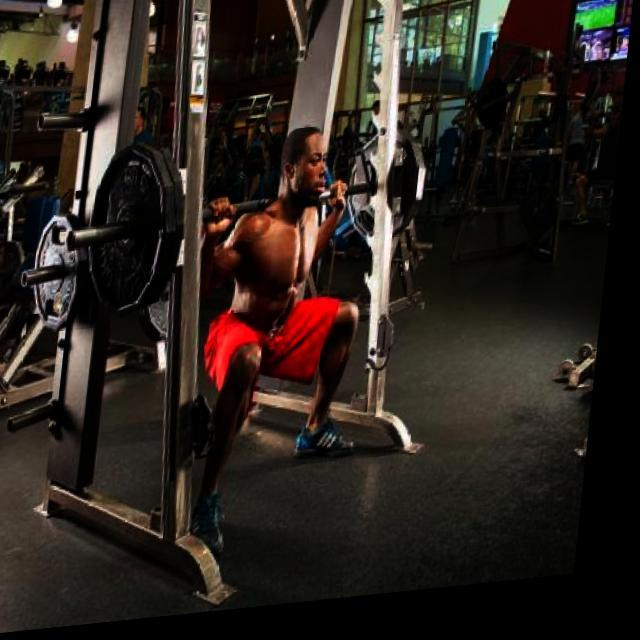barbell: (65, 138, 180, 327), (21, 205, 89, 339)
